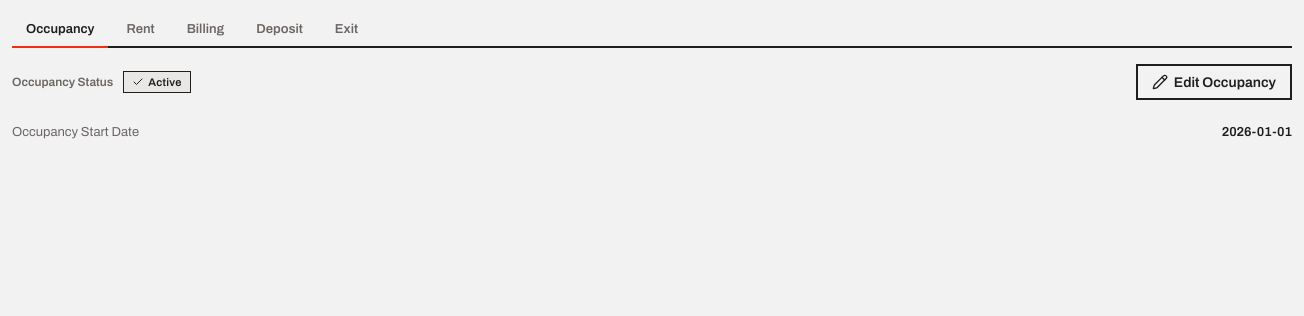
Test: UnitOccupancyTabs — P6.3-D Part 3: Rent/Billing/Deposit/Exit reached from Unit Detail, scoped to one occupancy › switches to Deposit and shows the no-deposit-yet state scoped to this occupancy
What coordinates should you click on to do the following:
click the tab "Deposit"
I would click on:
 (280, 30)
Its box is [242,12,317,48].
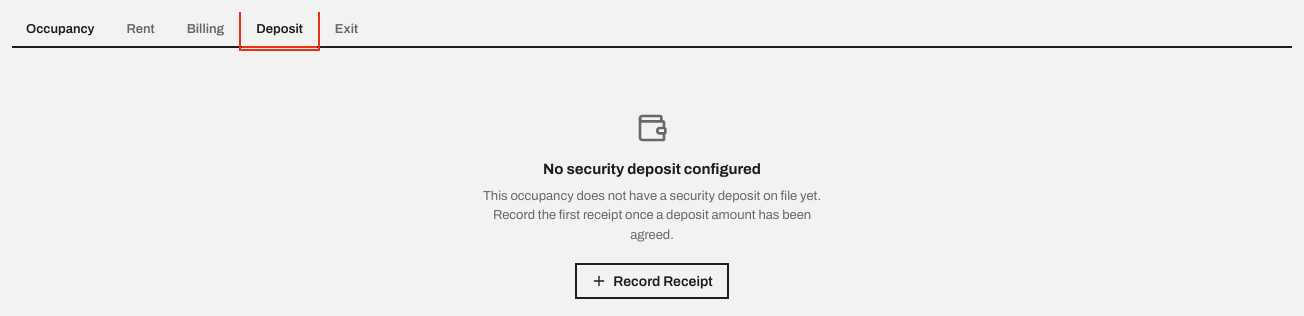
expect the text "No security deposit configured" is shown: met, box [543,158,761,180]
